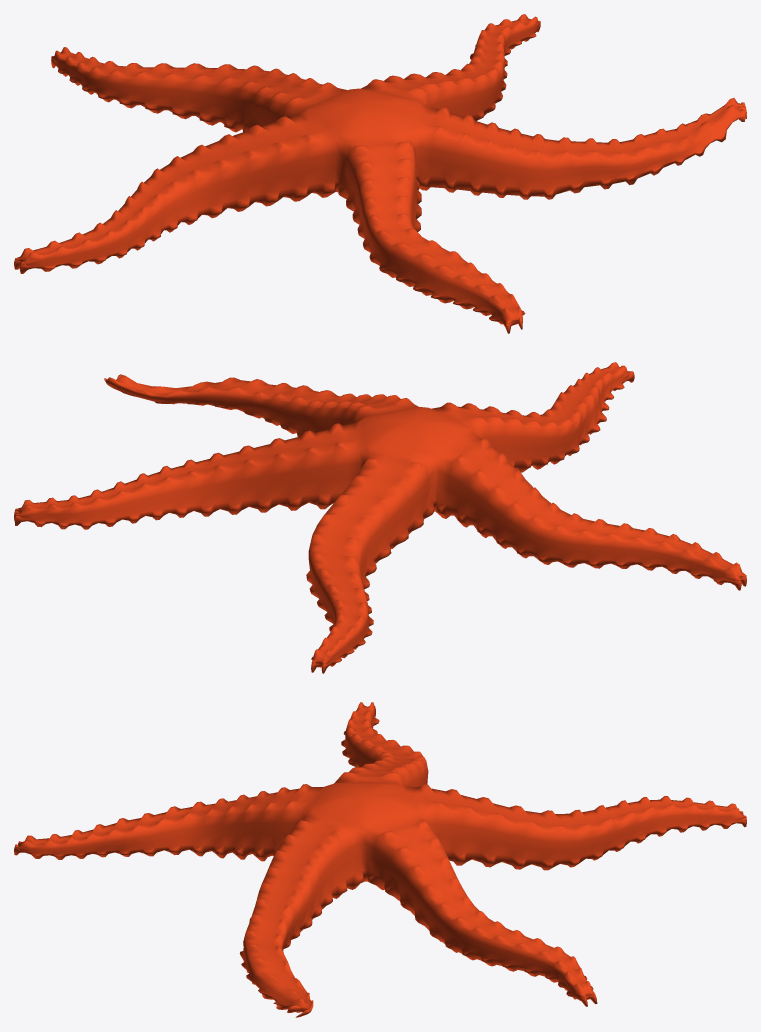
Rendered from starfish.glb.
3 renders of one model, top to bottom at view 1: azimuth 30°, elevation 25°; view 2: azimuth 150°, elevation 25°; view 3: azimuth 270°, elevation 25°, orthographic. The views are drawn at different scales.
Visible parts, largest first — view 1: Cylinder; view 2: Cylinder; view 3: Cylinder.
Boxes of the visible parts, box(x1,y1,x2,y2) form: Cylinder: box(14, 14, 746, 333); Cylinder: box(14, 362, 746, 673); Cylinder: box(14, 702, 746, 1017).
Bounding box in the file's own units: 11.51 × 1.41 × 11.28.
